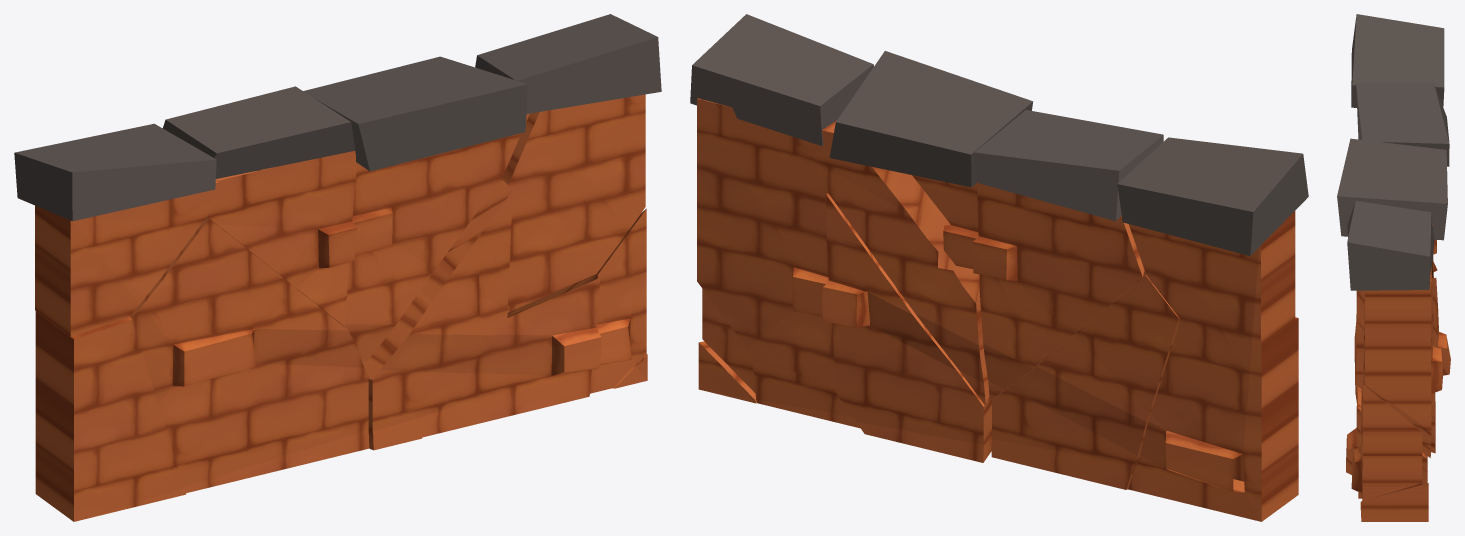
Rendered from CrackedWall.fbx.
The picture shows the model from 3 angles, left to right: view 1: azimuth 30°, elevation 25°; view 2: azimuth 150°, elevation 25°; view 3: azimuth 270°, elevation 25°; orthographic projection. The views are drawn at different scales.
Visible parts, largest first — view 1: Brick_Cracked _cell, Brick_Cracked _cell.005, Brick_Cracked _cell.002, Brick_Cracked _cell.008, Brick_Cracked _cell.010, Brick_Cracked _cell.009, Brick_Cracked _cell.013, Brick_Cracked _cell.007, Brick_Cracked _cell.004, Brick_Cracked _cell.011, Brick_Cracked _cell.014, Brick_Cracked _cell.012 (+1 smaller); view 2: Brick_Cracked _cell.002, Brick_Cracked _cell.005, Brick_Cracked _cell, Brick_Cracked _cell.007, Brick_Cracked _cell.008, Brick_Cracked _cell.010, Brick_Cracked _cell.013, Brick_Cracked _cell.011, Brick_Cracked _cell.014, Brick_Cracked _cell.009, Brick_Cracked _cell.012, Brick_Cracked _cell.004 (+3 smaller); view 3: Brick_Cracked _cell.002, Brick_Cracked _cell.013, Brick_Cracked _cell.014, Brick_Cracked _cell.011, Brick_Cracked _cell.003, Brick_Cracked _cell.012, Brick_Cracked _cell.006, Brick_Cracked _cell.008, Brick_Cracked _cell.004.
Part boxes in pixels (x1,y1,x2,y2): Brick_Cracked _cell: (130,218,369,493); Brick_Cracked _cell.005: (35,311,186,521); Brick_Cracked _cell.002: (502,94,645,317); Brick_Cracked _cell.008: (364,179,512,450); Brick_Cracked _cell.010: (344,113,529,365); Brick_Cracked _cell.009: (35,180,218,336); Brick_Cracked _cell.013: (303,56,527,171); Brick_Cracked _cell.007: (205,151,357,326); Brick_Cracked _cell.004: (423,278,601,437); Brick_Cracked _cell.011: (14,123,216,221); Brick_Cracked _cell.014: (475,14,661,113); Brick_Cracked _cell.012: (162,86,355,178); Brick_Cracked _cell.002: (697,98,835,389); Brick_Cracked _cell.005: (1128,317,1298,521); Brick_Cracked _cell: (991,270,1180,489); Brick_Cracked _cell.007: (972,182,1144,401); Brick_Cracked _cell.008: (822,193,992,462); Brick_Cracked _cell.010: (806,120,989,405); Brick_Cracked _cell.013: (829,51,1033,187); Brick_Cracked _cell.011: (1117,137,1308,255); Brick_Cracked _cell.014: (690,14,873,146); Brick_Cracked _cell.009: (1128,211,1295,344); Brick_Cracked _cell.012: (974,110,1163,221); Brick_Cracked _cell.004: (752,353,860,428); Brick_Cracked _cell.002: (1363,268,1443,457); Brick_Cracked _cell.013: (1337,138,1447,240); Brick_Cracked _cell.014: (1347,200,1434,290); Brick_Cracked _cell.011: (1351,14,1444,107); Brick_Cracked _cell.003: (1351,384,1422,500); Brick_Cracked _cell.012: (1356,83,1449,166); Brick_Cracked _cell.006: (1360,483,1428,521); Brick_Cracked _cell.008: (1354,278,1450,453); Brick_Cracked _cell.004: (1346,387,1427,498).
Size of the model in its own units: 4.1 by 2.34 by 0.8559.
